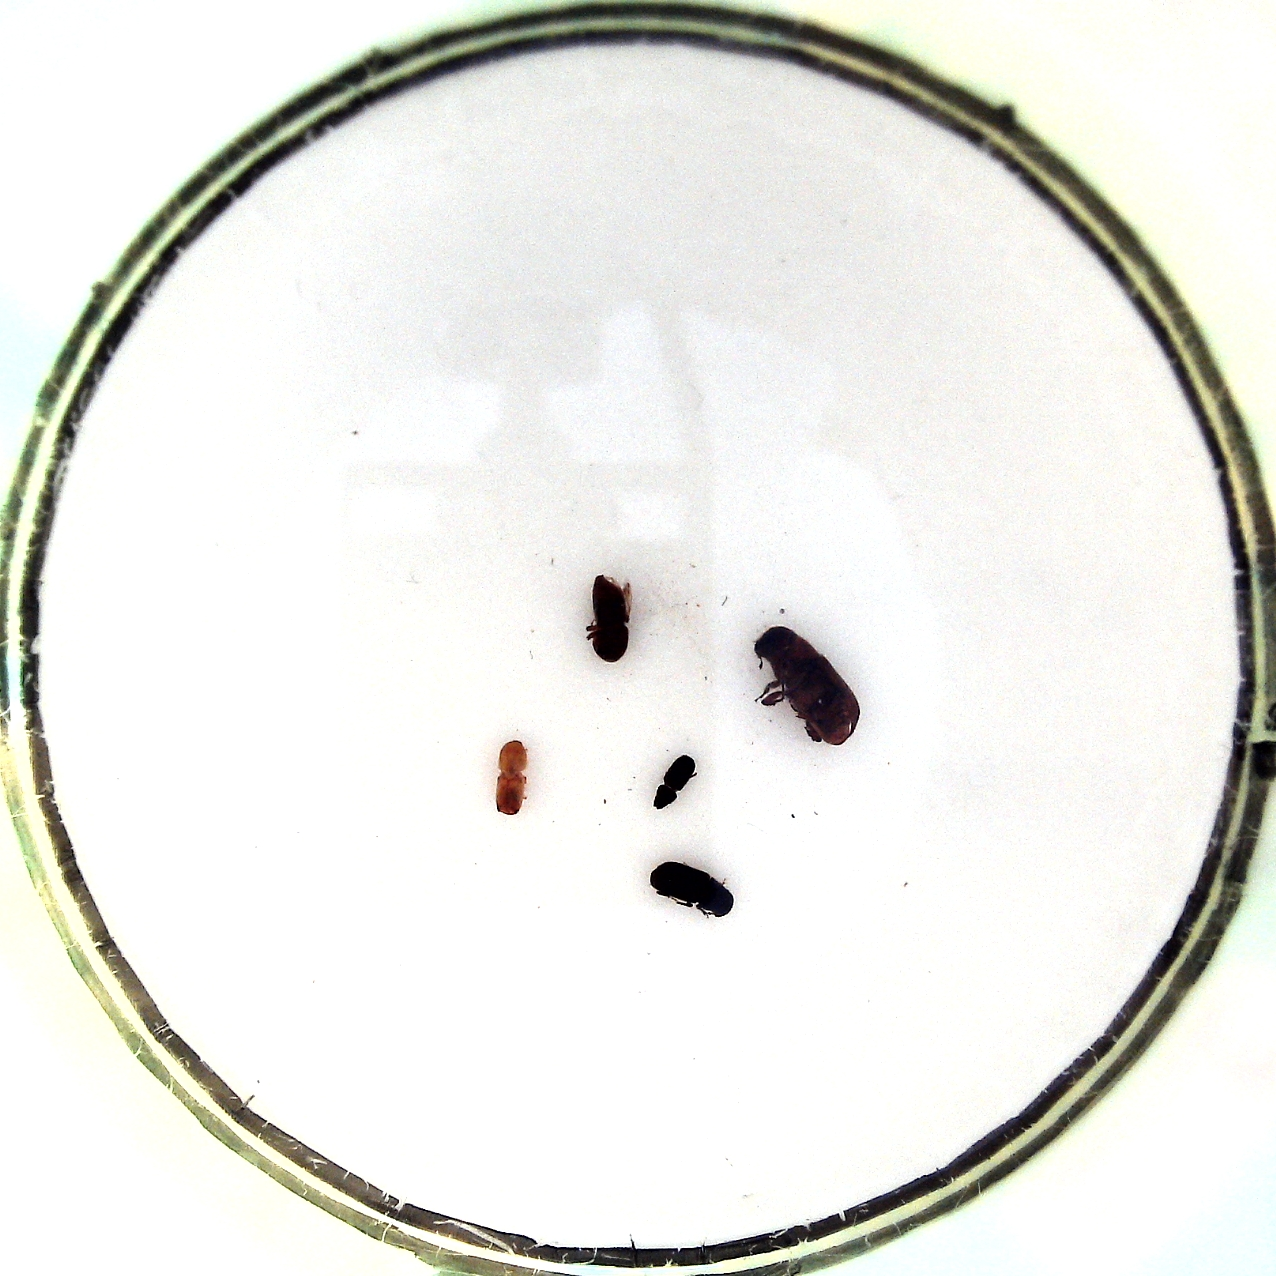Leconte: (748, 620, 861, 748)
Linnaeus: (584, 570, 636, 666)
acuminatus: (490, 734, 535, 820)
armandi: (649, 854, 740, 920)
coleoptera: (651, 753, 702, 811)
